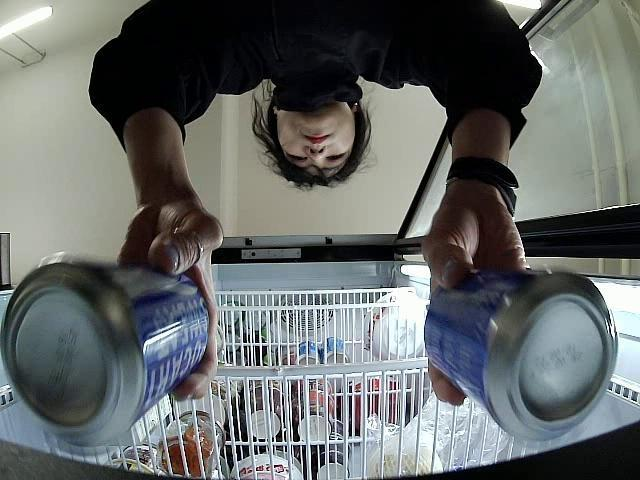13_pocariSweat: (2, 260, 209, 450), (422, 274, 618, 439)
